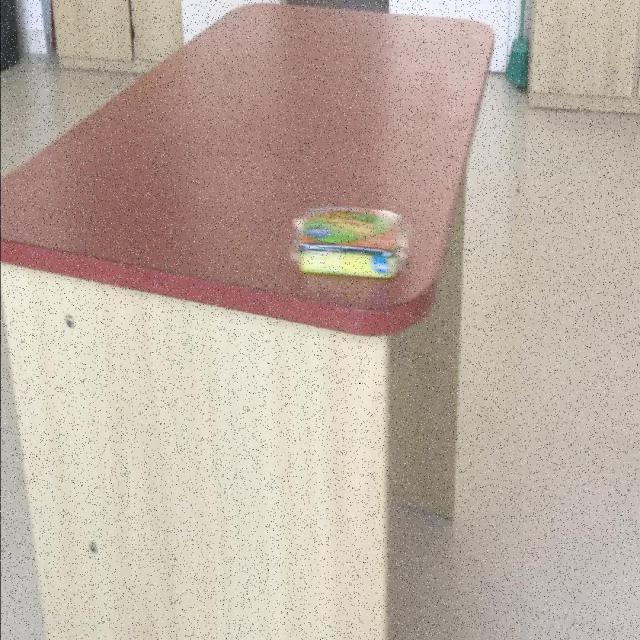Sponge: (292, 207, 412, 282), (298, 250, 402, 282)
